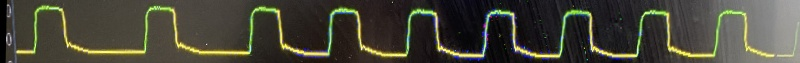normal_pressure: (8, 0, 799, 63)
